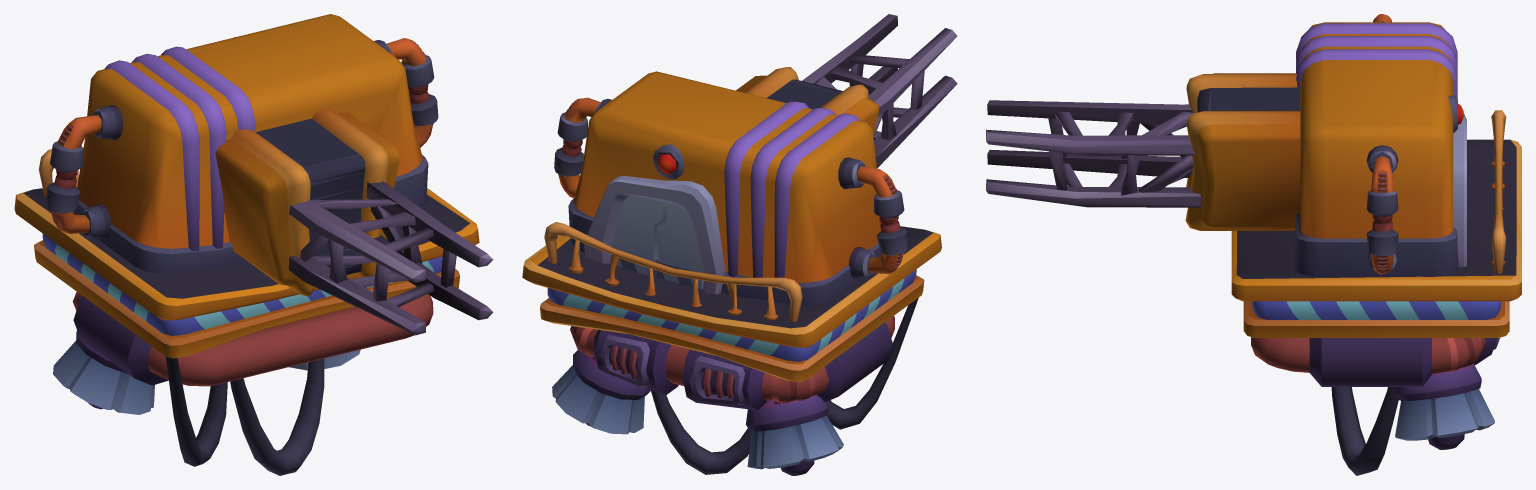
Rendered from SM_Prison_Сonstruction_07.fbx.
The picture shows the model from 3 angles, left to right: view 1: azimuth 30°, elevation 25°; view 2: azimuth 150°, elevation 25°; view 3: azimuth 270°, elevation 25°; orthographic projection. The views are drawn at different scales.
Visible parts, largest first — view 1: SM_Prison_Сonstruction_07; view 2: SM_Prison_Сonstruction_07; view 3: SM_Prison_Сonstruction_07.
Part boxes in pixels (x1,y1,x2,y2): SM_Prison_Сonstruction_07: [14, 14, 493, 475]; SM_Prison_Сonstruction_07: [522, 14, 957, 475]; SM_Prison_Сonstruction_07: [986, 14, 1521, 475].
Bounding box in the file's own units: 7.23 × 7.38 × 9.22.
